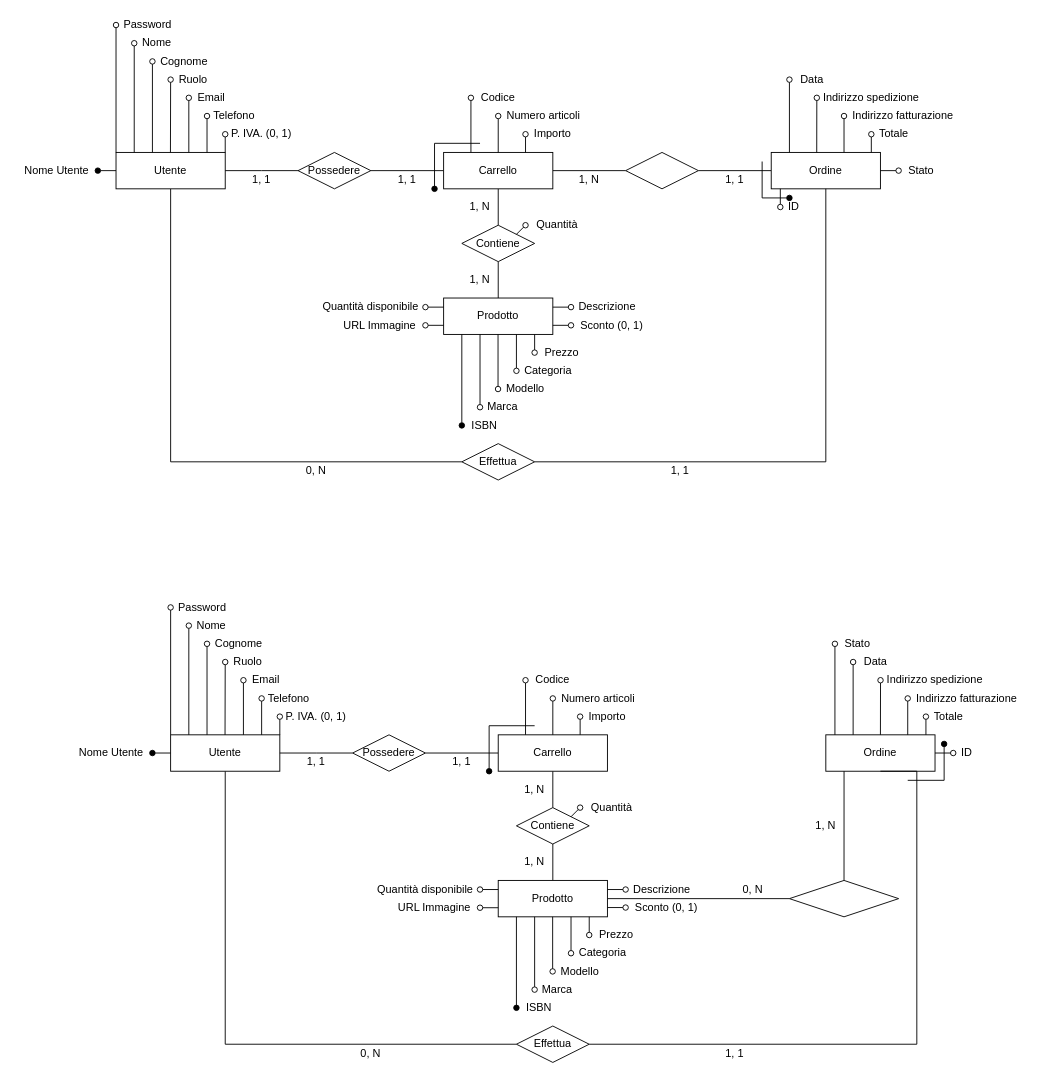
Image size: 1041x1078. Some labels were removed from this diagram. Each missing label, with the centre of its shape:
Composizione: (844,898)
Effettuare: (661,170)
